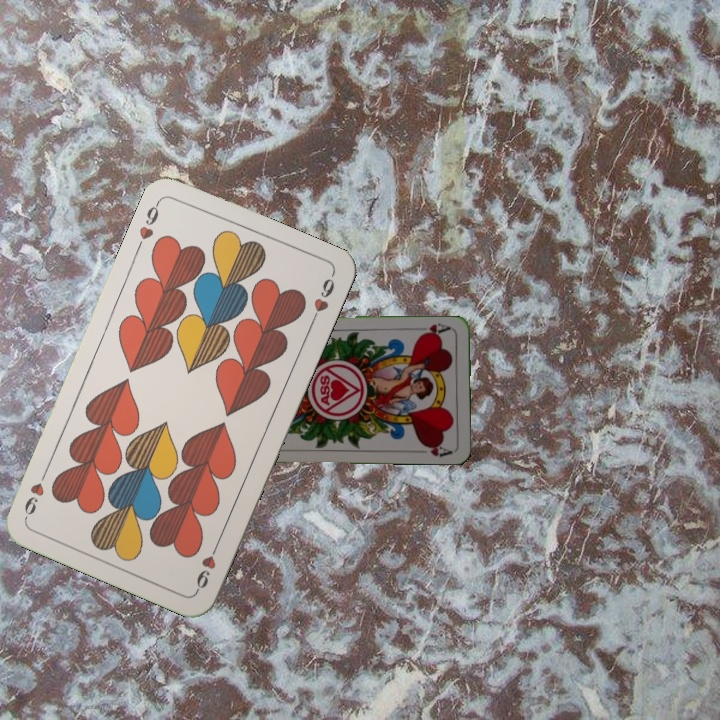H9: (192, 538, 222, 594), (135, 197, 163, 242)
HA: (416, 319, 455, 339)
